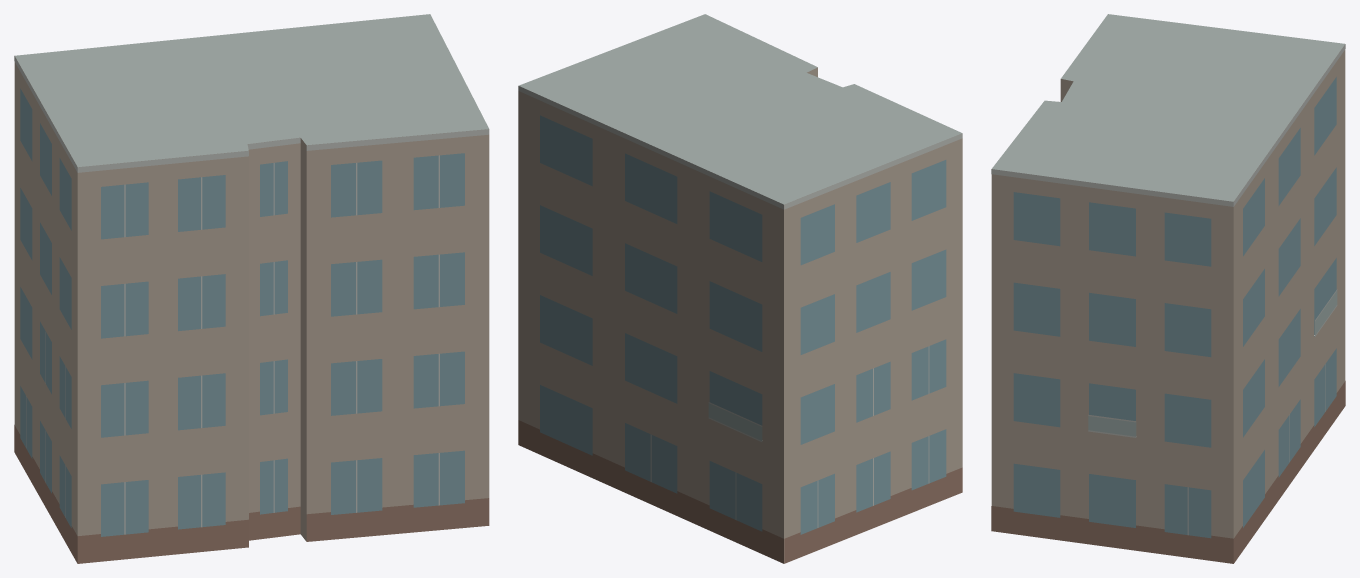
File: survey-upis-32808443.glb
3 views of the same model, side by side, from view 1: azimuth 30°, elevation 25°; view 2: azimuth 150°, elevation 25°; view 3: azimuth 270°, elevation 25° (orthographic). The views are drawn at different scales.
Parts seen in each view (by area): view 1: survey-upis-32808443.tmp; view 2: survey-upis-32808443.tmp; view 3: survey-upis-32808443.tmp.
Part boxes in pixels (x1,y1,x2,y2): survey-upis-32808443.tmp: (14, 14, 489, 563); survey-upis-32808443.tmp: (518, 14, 962, 563); survey-upis-32808443.tmp: (991, 14, 1345, 563).
Size of the model in its own units: 19.02 by 17.1 by 15.16.
